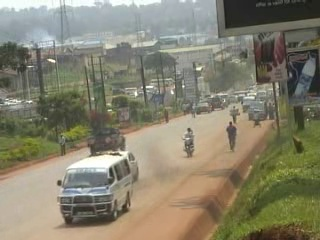Car: (97, 147, 141, 184), (194, 100, 212, 116), (207, 94, 224, 110), (217, 95, 228, 108), (235, 93, 248, 103)
Motorcycle: (181, 134, 194, 158)
